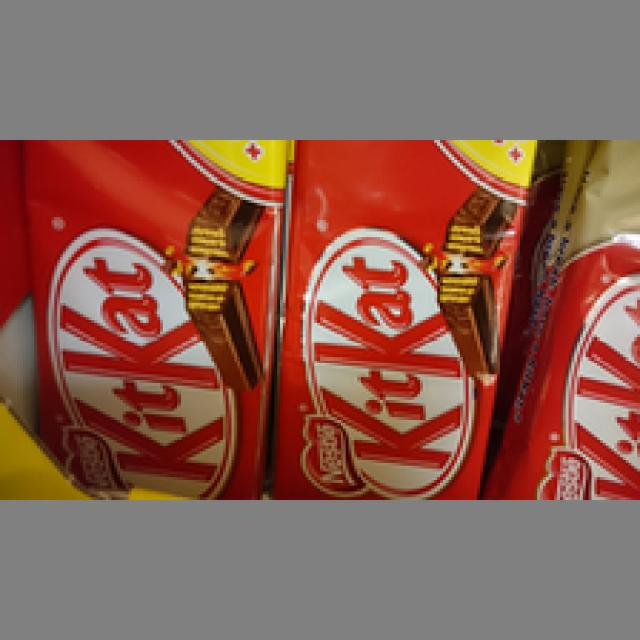groceries: (17, 134, 280, 492), (280, 137, 520, 497), (503, 137, 637, 497)
